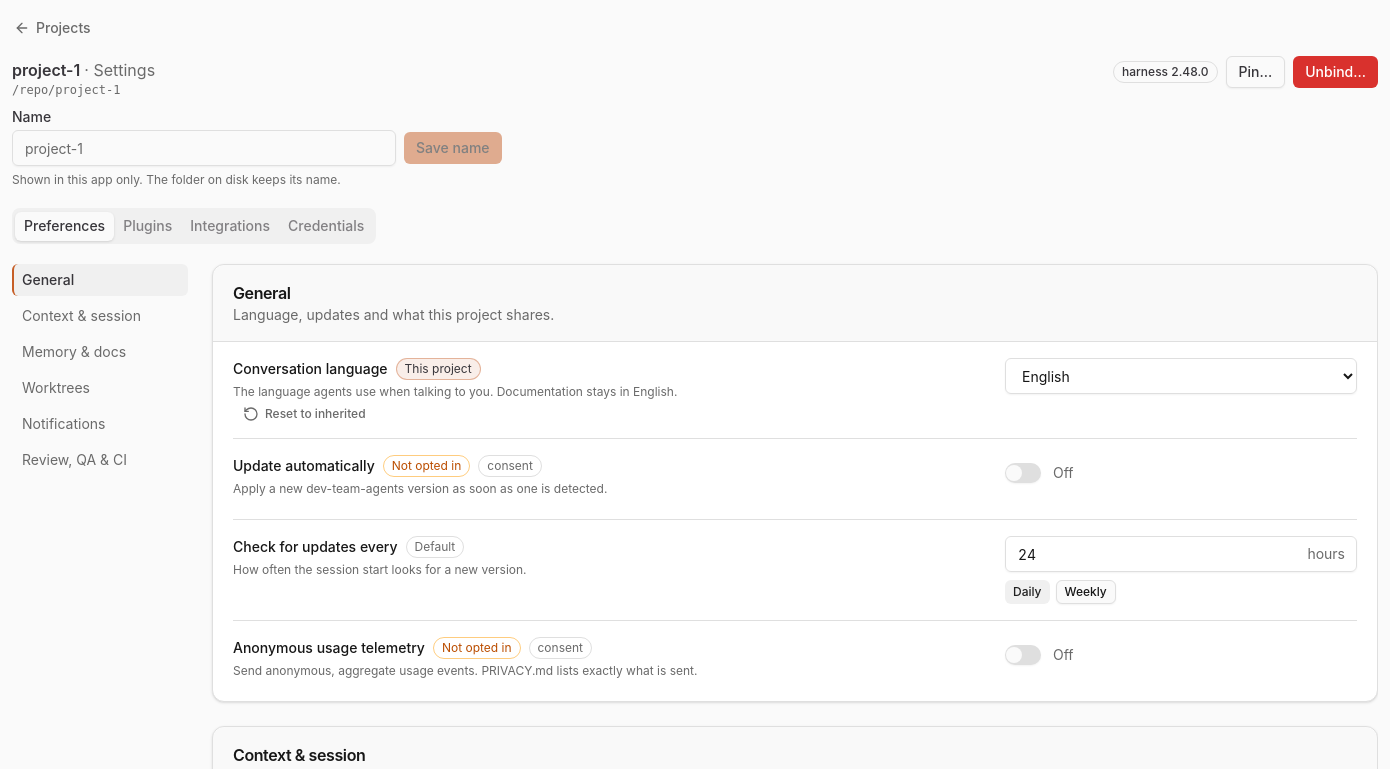
the project screen’s tabs › lists plugins the CLI skipped for an invalid manifest
Step 1. Click the tab "Plugins" → (148, 226), box x1=114 y1=212 x2=181 y2=240
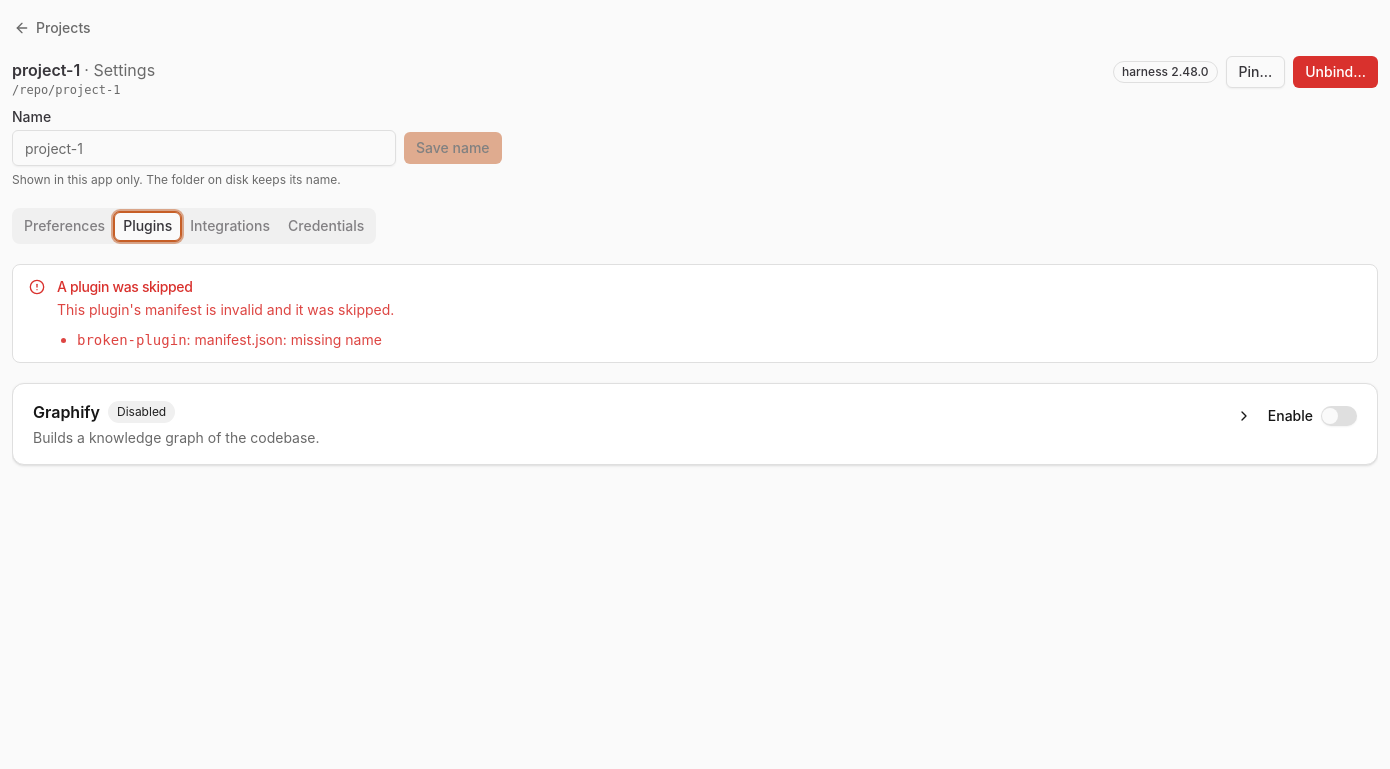
Now the text "This plugin's manifest is invalid and it was skipped." is shown, box x1=57 y1=299 x2=394 y2=322
Now the text "broken-plugin" is shown, box x1=77 y1=332 x2=187 y2=348
Now the list item "broken-plugin: manifest.json: missing name" is shown, box x1=77 y1=330 x2=382 y2=350
